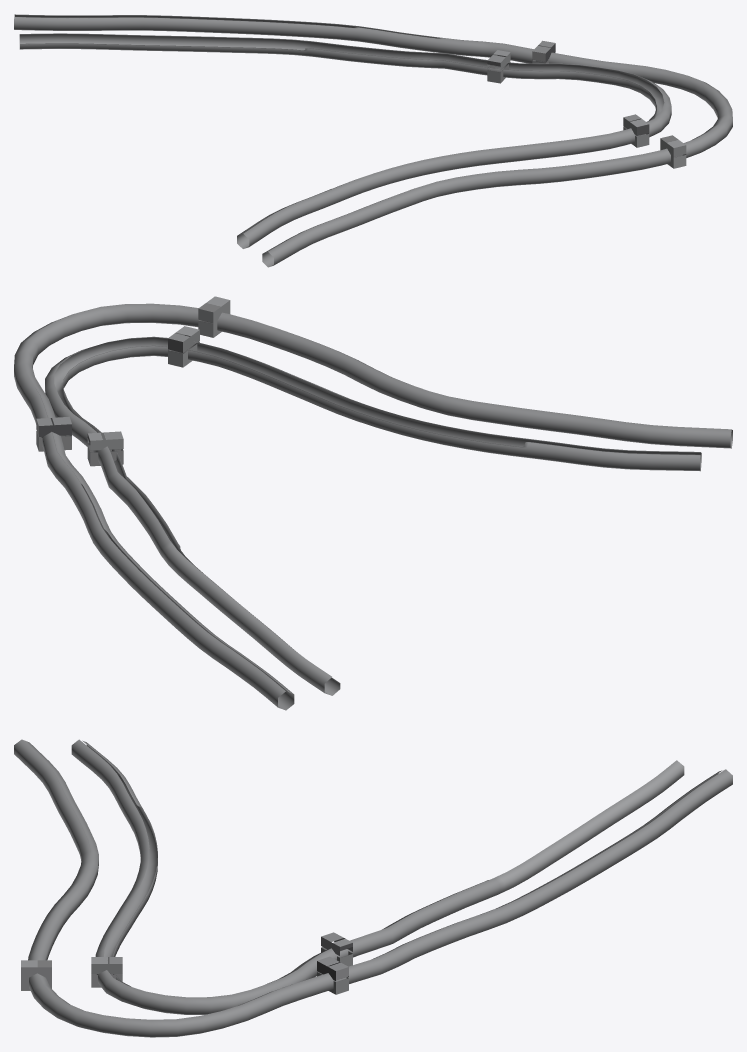
The picture shows the model from 3 angles, top to bottom: view 1: azimuth 30°, elevation 25°; view 2: azimuth 150°, elevation 25°; view 3: azimuth 270°, elevation 25°; orthographic projection. The views are drawn at different scales.
Size of the model in its own units: 0.8254 by 0.032 by 0.8783.
